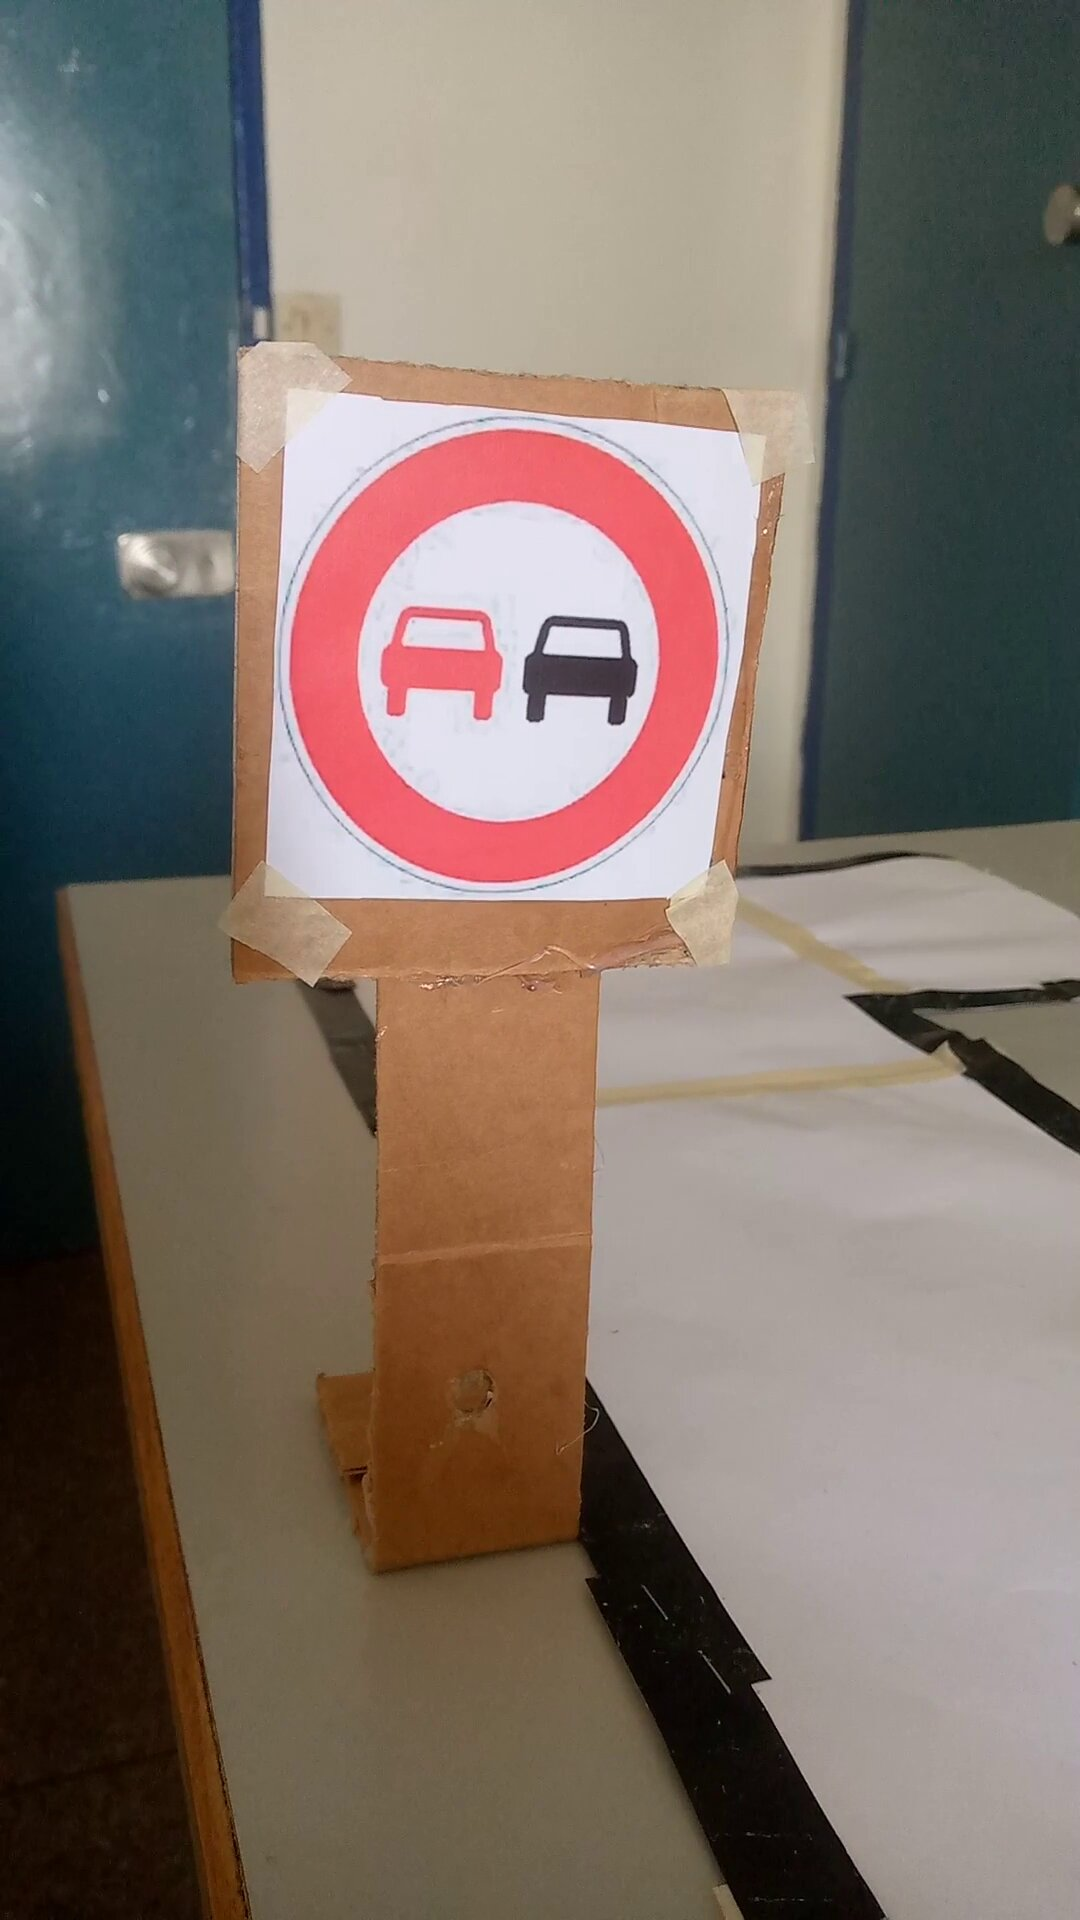panel100: (266, 380, 733, 914)
